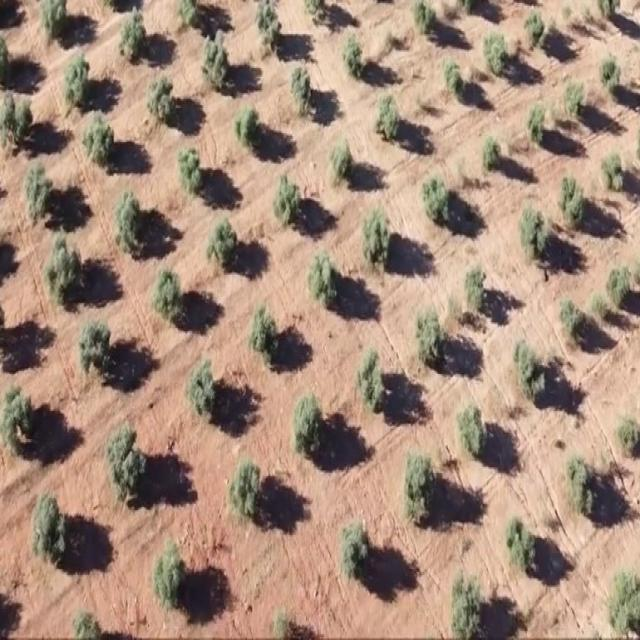trees: (396, 438, 440, 534), (100, 416, 142, 514), (147, 528, 193, 617), (438, 560, 488, 640), (71, 311, 119, 394), (512, 197, 557, 285), (26, 486, 68, 572), (508, 334, 550, 414), (243, 294, 282, 377), (501, 500, 542, 578), (48, 226, 86, 310), (561, 442, 599, 526), (225, 442, 261, 530), (286, 389, 324, 469), (334, 511, 372, 588), (1, 383, 35, 468), (454, 390, 491, 468), (0, 90, 43, 156), (108, 182, 145, 258), (352, 343, 390, 416), (206, 203, 242, 280), (358, 204, 394, 281), (553, 170, 590, 242), (58, 41, 92, 116), (185, 354, 220, 426), (607, 392, 640, 467), (412, 295, 446, 367), (152, 252, 186, 322), (300, 242, 338, 304), (198, 30, 232, 99), (23, 154, 53, 232), (418, 164, 456, 224), (270, 163, 303, 231), (557, 295, 594, 352), (115, 8, 149, 70), (338, 22, 371, 84), (230, 95, 265, 153), (523, 0, 561, 53), (458, 259, 492, 318), (604, 251, 638, 308), (176, 139, 206, 203), (326, 129, 355, 195), (252, 0, 283, 61), (596, 38, 624, 104), (479, 23, 511, 80), (84, 111, 112, 175), (288, 54, 316, 118), (373, 86, 404, 142), (145, 68, 177, 122), (476, 129, 505, 182), (596, 146, 627, 194), (558, 74, 590, 120), (524, 95, 549, 146), (437, 55, 462, 104), (410, 1, 439, 36)
